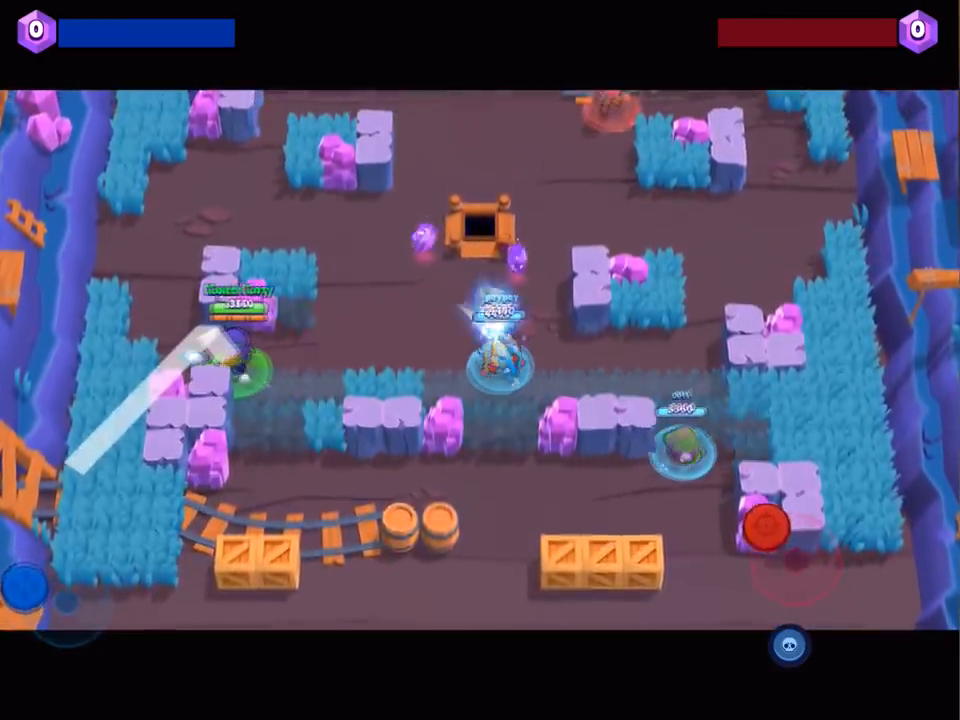move_stick: (1, 567, 60, 616)
red: (583, 84, 649, 146)
